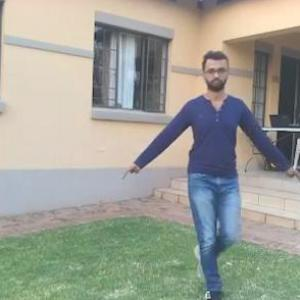land: (133, 74, 268, 272)
